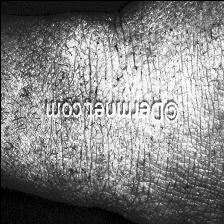Non-Cancerous Skin Condition: (4, 121, 169, 192), (0, 29, 159, 94), (182, 0, 224, 220)
